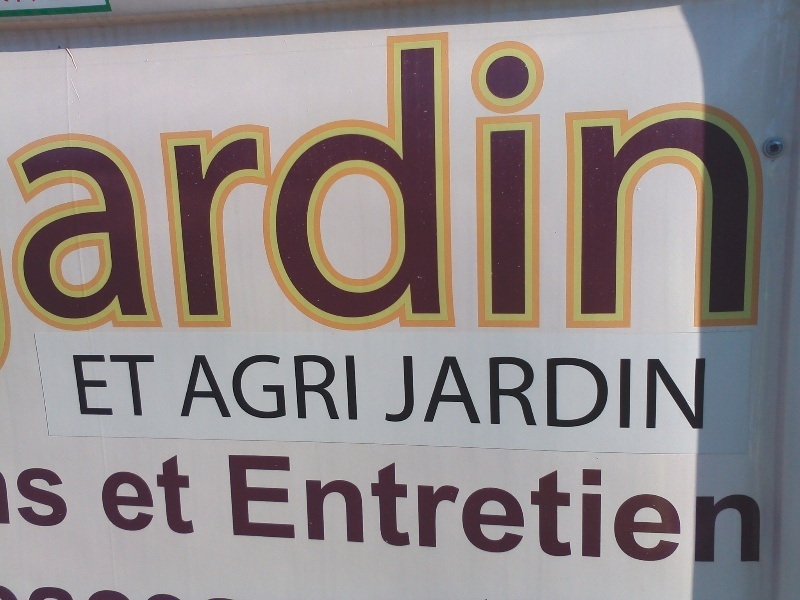text: (17, 16, 32, 340), (33, 16, 48, 340), (49, 16, 64, 340), (65, 16, 80, 340), (81, 16, 96, 340), (97, 16, 112, 340), (113, 16, 128, 340), (129, 16, 144, 340), (145, 16, 160, 340), (161, 16, 176, 340), (177, 16, 192, 340), (193, 16, 208, 340), (209, 16, 224, 340), (225, 16, 240, 340), (241, 16, 256, 340), (257, 16, 272, 340), (273, 16, 288, 340), (289, 16, 304, 340), (305, 16, 320, 340), (321, 16, 336, 340), (337, 16, 352, 340), (353, 16, 368, 340), (369, 16, 384, 340), (385, 16, 400, 340), (401, 16, 416, 340), (417, 16, 432, 340), (433, 16, 448, 340), (449, 16, 464, 340), (465, 16, 480, 340), (481, 16, 496, 340), (497, 16, 512, 340), (513, 16, 528, 340), (529, 16, 544, 340), (545, 16, 560, 340), (561, 16, 576, 340), (577, 16, 592, 340), (593, 16, 608, 340), (609, 16, 624, 340), (625, 16, 640, 340), (641, 16, 656, 340), (657, 16, 672, 340), (673, 16, 688, 340), (689, 16, 704, 340), (705, 16, 720, 340), (721, 16, 736, 340), (737, 16, 752, 340), (753, 16, 768, 340), (3, 16, 16, 340), (225, 451, 240, 572), (241, 451, 256, 572), (257, 451, 272, 572), (273, 451, 288, 572), (289, 451, 304, 572), (305, 451, 320, 572), (321, 451, 336, 572), (337, 451, 352, 572), (353, 451, 368, 572), (369, 451, 384, 572), (385, 451, 400, 572), (401, 451, 416, 572), (417, 451, 432, 572), (433, 451, 448, 572), (449, 451, 464, 572), (465, 451, 480, 572), (481, 451, 496, 572), (497, 451, 512, 572), (513, 451, 528, 572), (529, 451, 544, 572), (545, 451, 560, 572), (561, 451, 576, 572), (577, 451, 592, 572), (593, 451, 608, 572), (609, 451, 624, 572), (625, 451, 640, 572), (641, 451, 656, 572), (657, 451, 672, 572), (673, 451, 688, 572), (689, 451, 704, 572), (705, 451, 720, 572), (721, 451, 736, 572), (737, 451, 752, 572), (753, 451, 767, 572), (113, 447, 128, 536), (129, 447, 144, 536), (145, 447, 160, 536), (161, 447, 176, 536), (177, 447, 192, 536), (385, 352, 400, 433), (401, 352, 416, 433), (417, 352, 432, 433), (433, 352, 448, 433), (449, 352, 464, 433), (465, 352, 480, 433), (481, 352, 496, 433), (497, 352, 512, 433), (513, 352, 528, 433), (529, 352, 544, 433), (545, 352, 560, 433), (561, 352, 576, 433), (577, 352, 592, 433), (593, 352, 608, 433), (609, 352, 624, 433), (625, 352, 640, 433), (641, 352, 656, 433), (657, 352, 672, 433), (673, 352, 688, 433), (689, 352, 704, 433), (193, 349, 208, 425), (209, 349, 224, 425), (225, 349, 240, 425), (241, 349, 256, 425), (257, 349, 272, 425), (273, 349, 288, 425), (289, 349, 304, 425), (305, 349, 320, 425), (321, 349, 336, 425), (337, 349, 352, 425), (353, 349, 367, 425), (101, 447, 112, 536), (81, 353, 96, 418), (97, 353, 112, 418), (113, 353, 128, 418), (129, 353, 144, 418), (769, 16, 772, 340), (17, 465, 32, 529), (33, 465, 48, 529), (49, 465, 64, 529), (145, 353, 157, 418), (71, 353, 80, 418), (193, 447, 197, 536), (705, 352, 709, 433), (11, 465, 16, 529), (65, 465, 70, 529), (222, 451, 224, 572), (382, 352, 384, 433), (190, 349, 192, 425)
